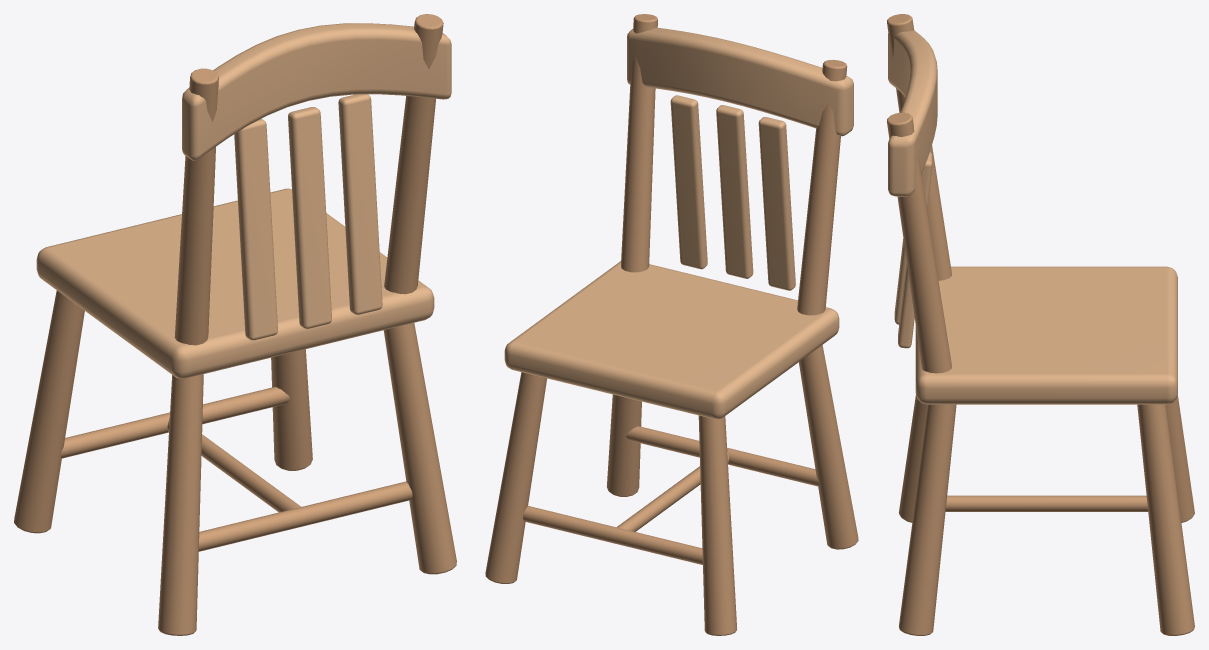
File: chair.glb
3 views of the same model, side by side, from view 1: azimuth 30°, elevation 25°; view 2: azimuth 150°, elevation 25°; view 3: azimuth 270°, elevation 25° (orthographic). The views are drawn at different scales.
Visible parts, largest first — view 1: seat, toprail, leg-1-1, leg1-1, leg-11, backpost1, slat2, slat1, slat0, backpost-1, str-1, leg11 (+2 smaller); view 2: seat, toprail, leg-11, leg11, leg-1-1, backpost-1, backpost1, slat1, slat0, slat2, str1, leg1-1 (+2 smaller); view 3: seat, leg1-1, leg11, backpost1, toprail, strx, backpost-1, leg-1-1, leg-11, slat2, slat1.
Part boxes in pixels (<box>): seat: <box>36,188,434,378</box>; toprail: <box>182,23,451,160</box>; leg-1-1: <box>158,374,203,635</box>; leg1-1: <box>383,323,456,574</box>; leg-11: <box>14,290,84,533</box>; backpost1: <box>384,14,443,294</box>; slat2: <box>338,94,382,314</box>; slat1: <box>288,107,331,328</box>; slat0: <box>234,119,277,340</box>; backpost-1: <box>174,68,218,345</box>; str-1: <box>198,481,412,551</box>; leg11: <box>271,349,312,470</box>; seat: <box>504,261,839,419</box>; toprail: <box>627,27,853,136</box>; leg-11: <box>698,415,736,635</box>; leg11: <box>485,372,546,583</box>; leg-1-1: <box>799,345,858,549</box>; backpost-1: <box>797,59,847,315</box>; backpost1: <box>621,14,657,272</box>; slat1: <box>716,105,753,278</box>; slat0: <box>758,117,795,290</box>; slat2: <box>670,95,707,269</box>; str1: <box>523,506,702,564</box>; leg1-1: <box>606,394,641,496</box>; seat: <box>915,266,1177,404</box>; leg1-1: <box>899,404,956,635</box>; leg11: <box>1137,404,1194,635</box>; backpost1: <box>887,112,951,373</box>; toprail: <box>888,30,937,196</box>; strx: <box>945,495,1148,511</box>; backpost-1: <box>887,14,951,280</box>; leg-1-1: <box>899,395,927,522</box>; leg-11: <box>1166,394,1194,522</box>; slat2: <box>898,152,932,348</box>; slat1: <box>894,239,906,324</box>.
Size of the model in its own units: 0.5623 by 1.03 by 0.5639.
